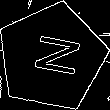N_W: (23, 33, 80, 82)
